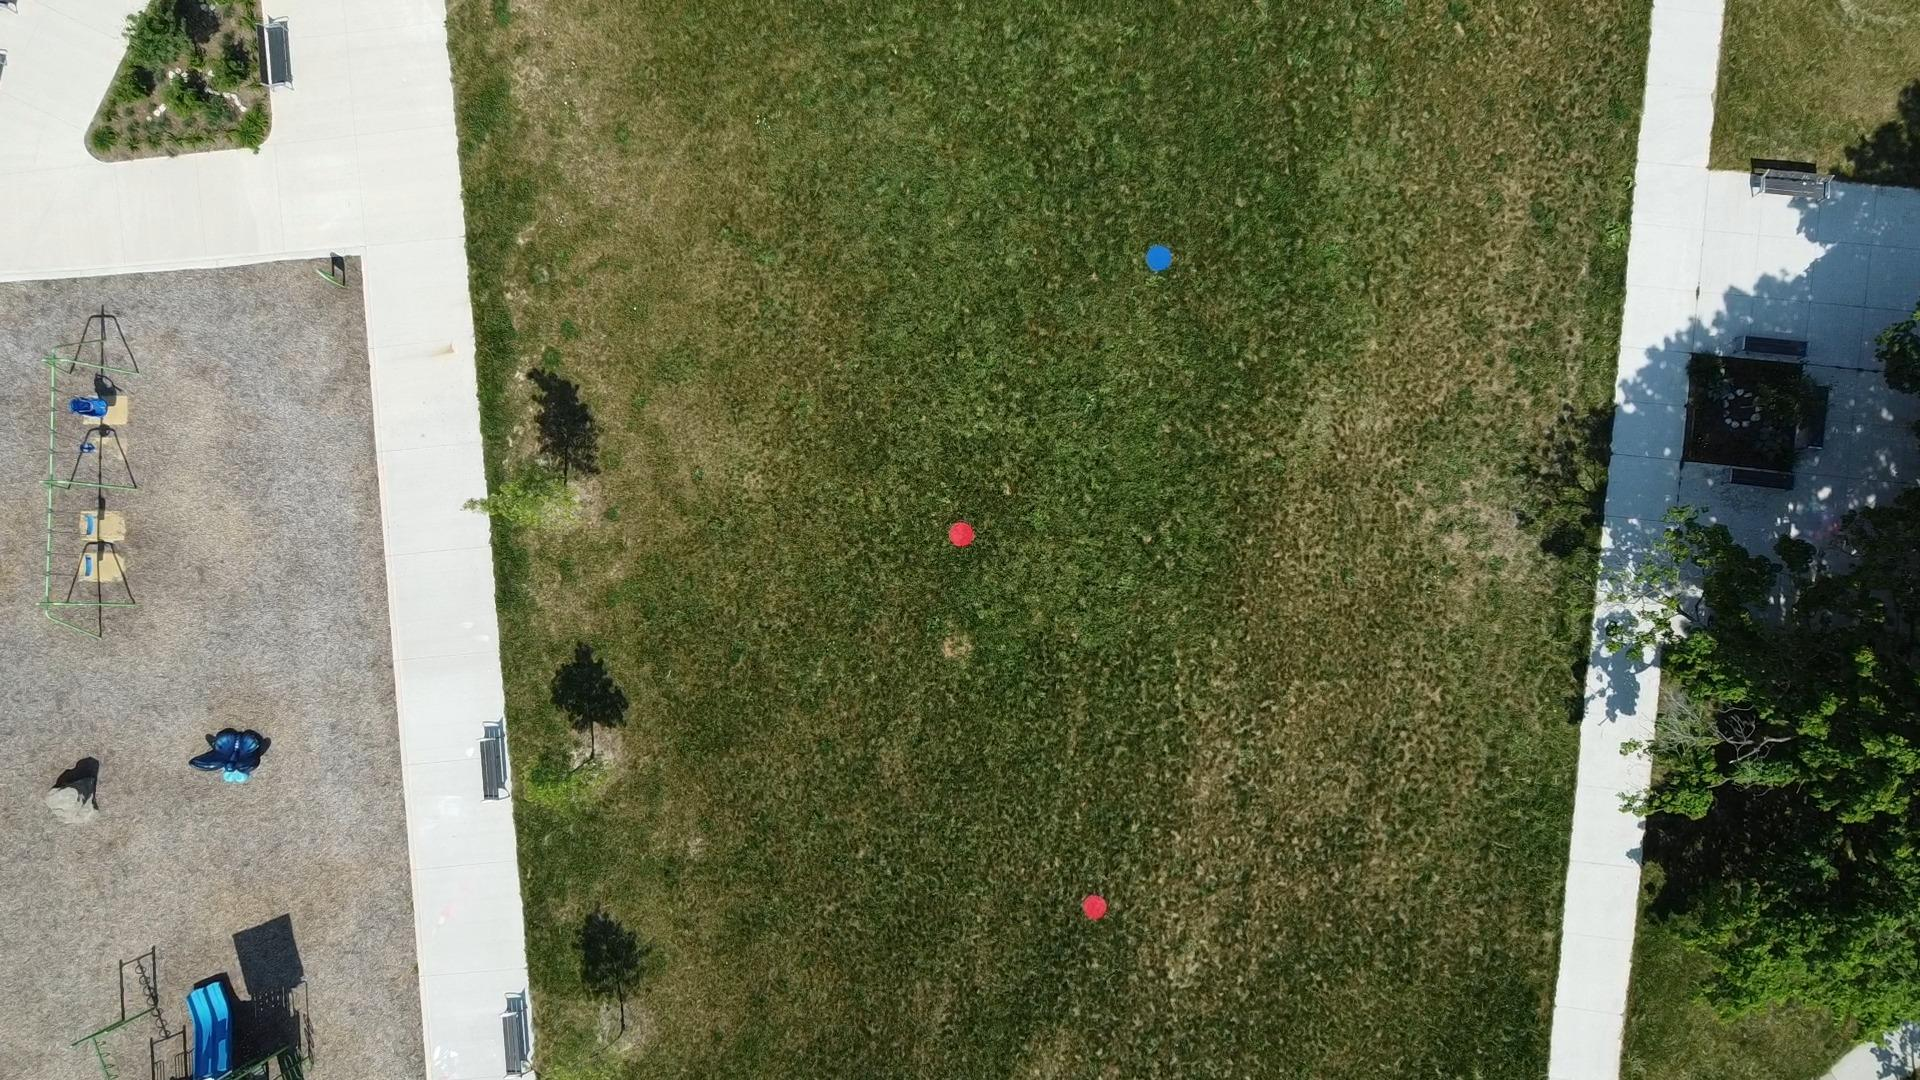Blue: (1145, 244, 1174, 273)
Red: (1080, 893, 1109, 923), (948, 520, 976, 549)
